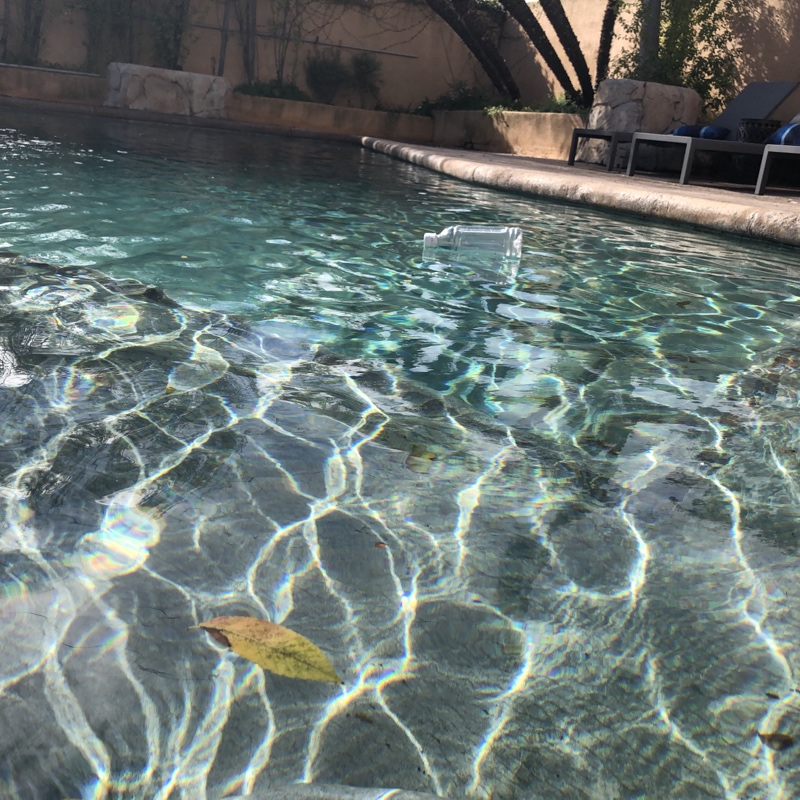Plastic Bottle: (416, 217, 531, 268)
